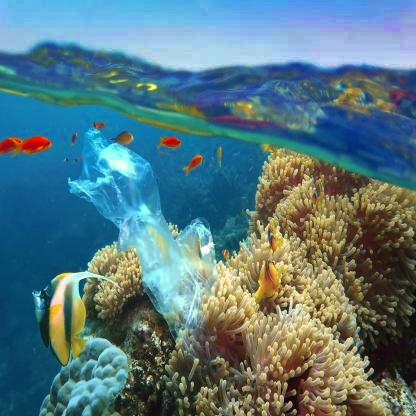pbag: (62, 119, 222, 338)
